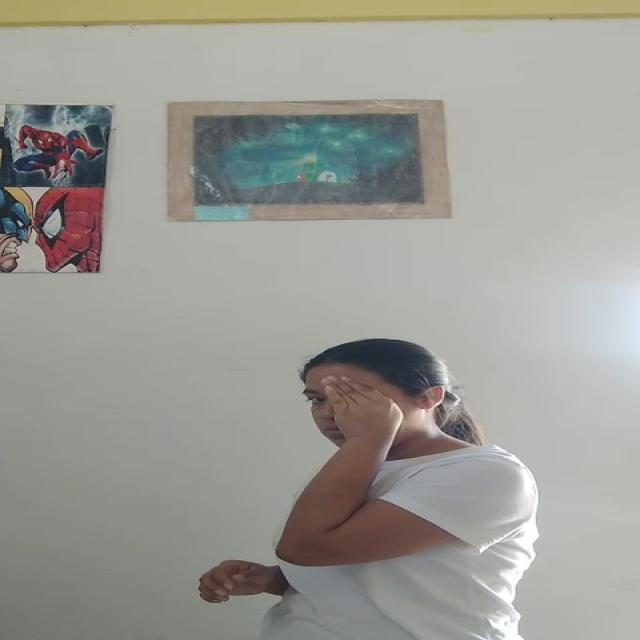7_mano_rostro: (309, 378, 403, 524)
